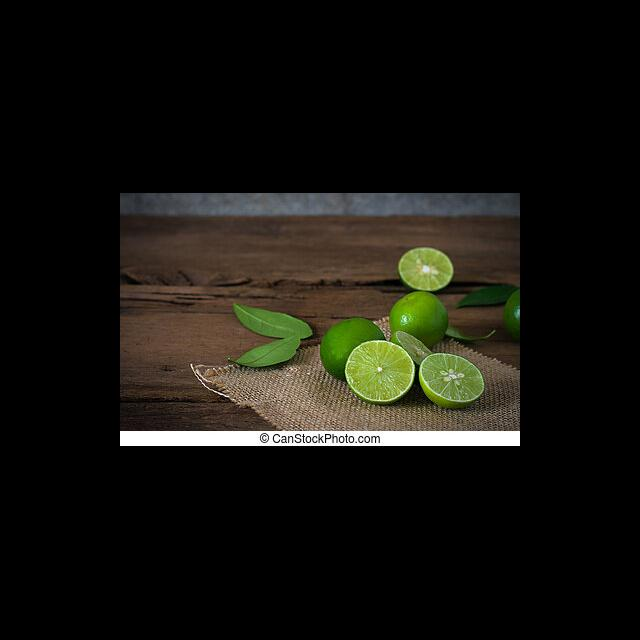lime: (319, 314, 395, 383), (384, 289, 453, 352), (497, 282, 520, 342)
